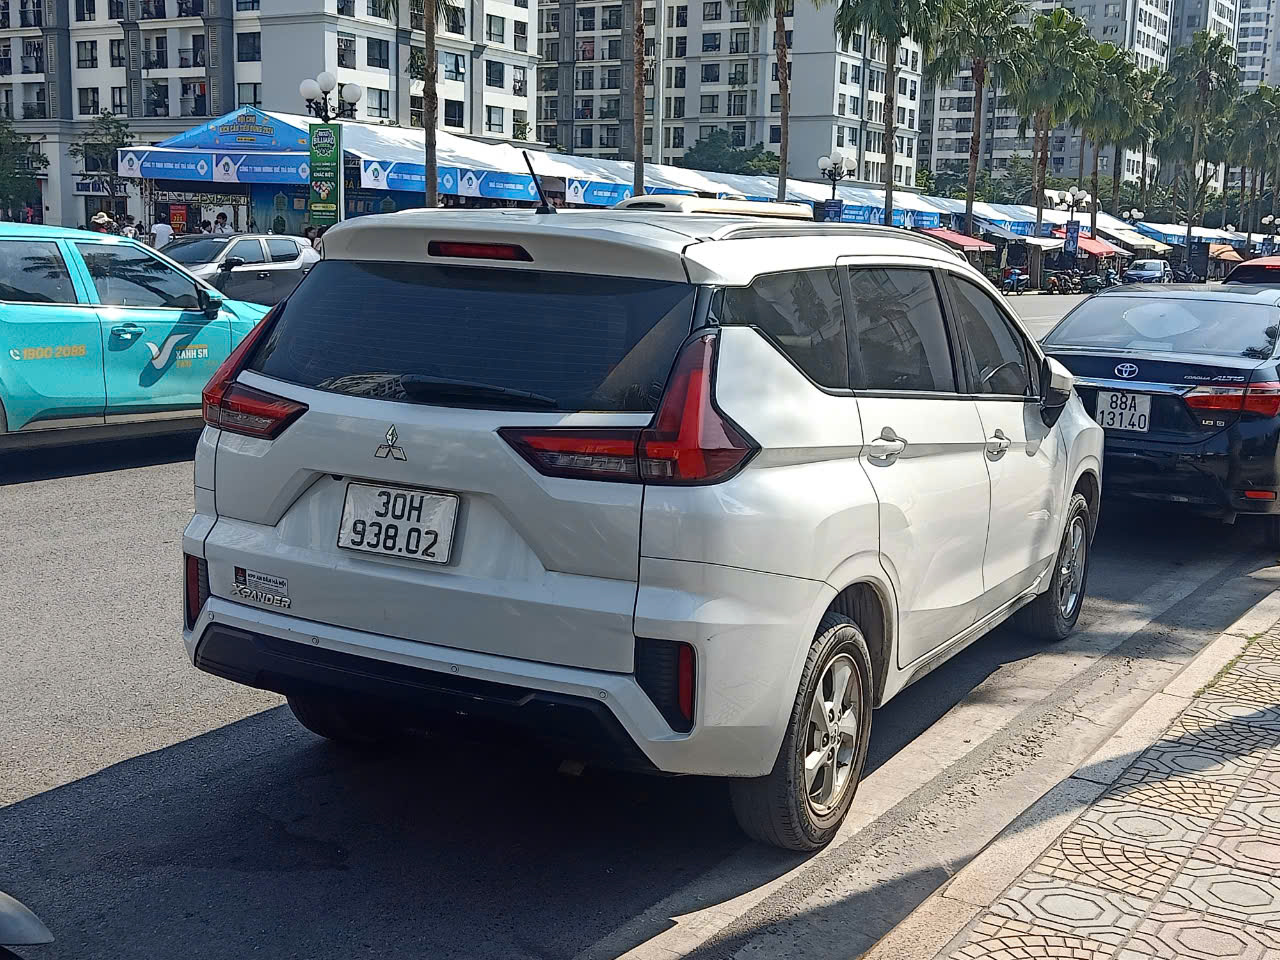bien_so: (338, 482, 457, 564)
